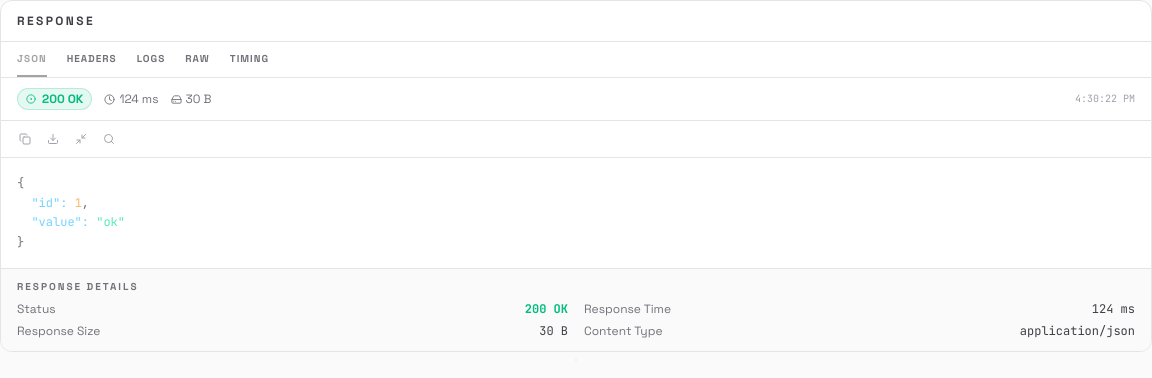
Scenario: ResponsePanel › switches to the Headers tab and shows the explanatory empty state
Click the button "Headers".
click(92, 60)  # box top-left (67, 42), bottom-right (117, 77)
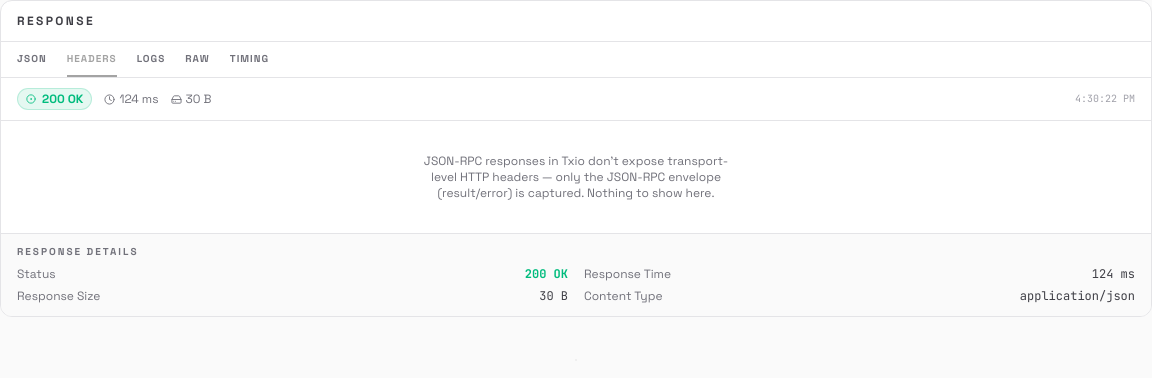
Now the text "don't expose transport-level HTTP headers" is shown, box top-left (424, 153), bottom-right (728, 201)
